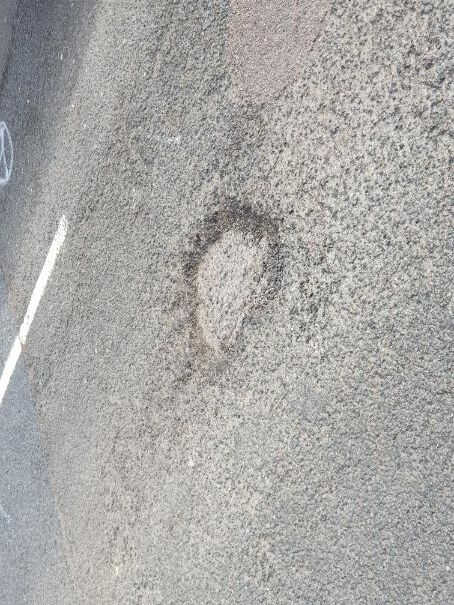pothole: (179, 196, 289, 363)
